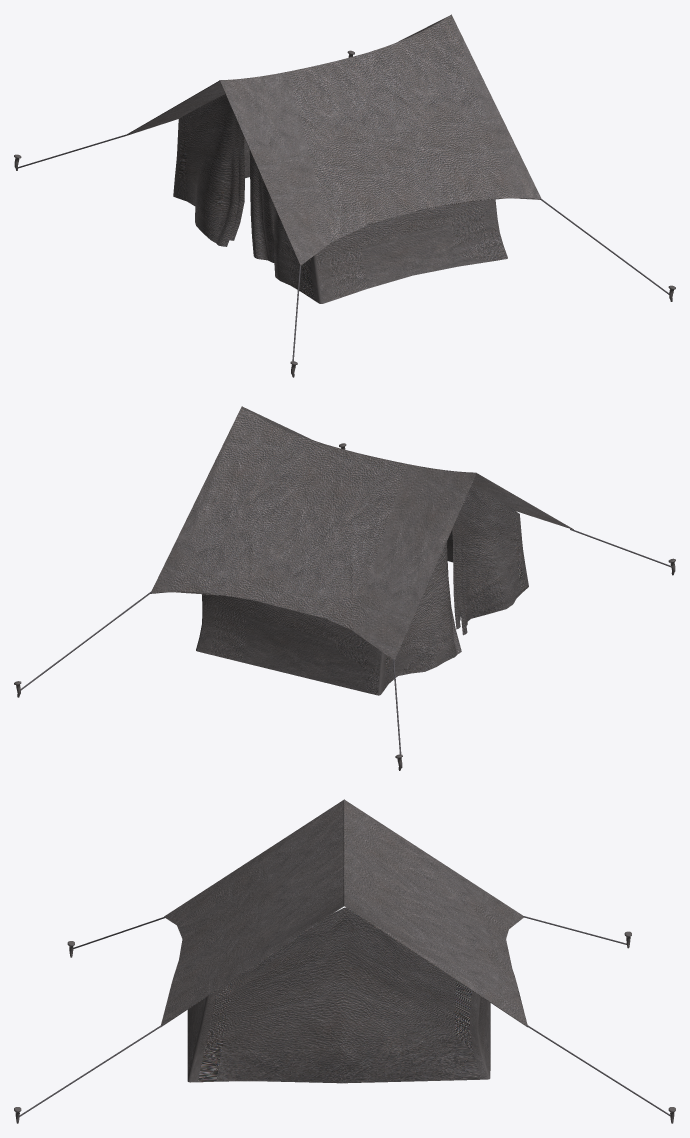
The model's file is Tent.FBX.
3 renders of one model, top to bottom at view 1: azimuth 30°, elevation 25°; view 2: azimuth 150°, elevation 25°; view 3: azimuth 270°, elevation 25°, orthographic.
Visible parts, largest first — view 1: Line02, Box01; view 2: Line02, Box01; view 3: Box01, Line02.
Boxes of the visible parts, <box> form: Line02: <box>123,14,541,265</box>; Box01: <box>173,94,507,303</box>; Line02: <box>150,406,573,660</box>; Box01: <box>196,485,528,695</box>; Box01: <box>187,907,490,1083</box>; Line02: <box>161,799,527,1027</box>.
Bounding box in the file's own units: 336 × 172 × 522.
1 material, 1 textured.
